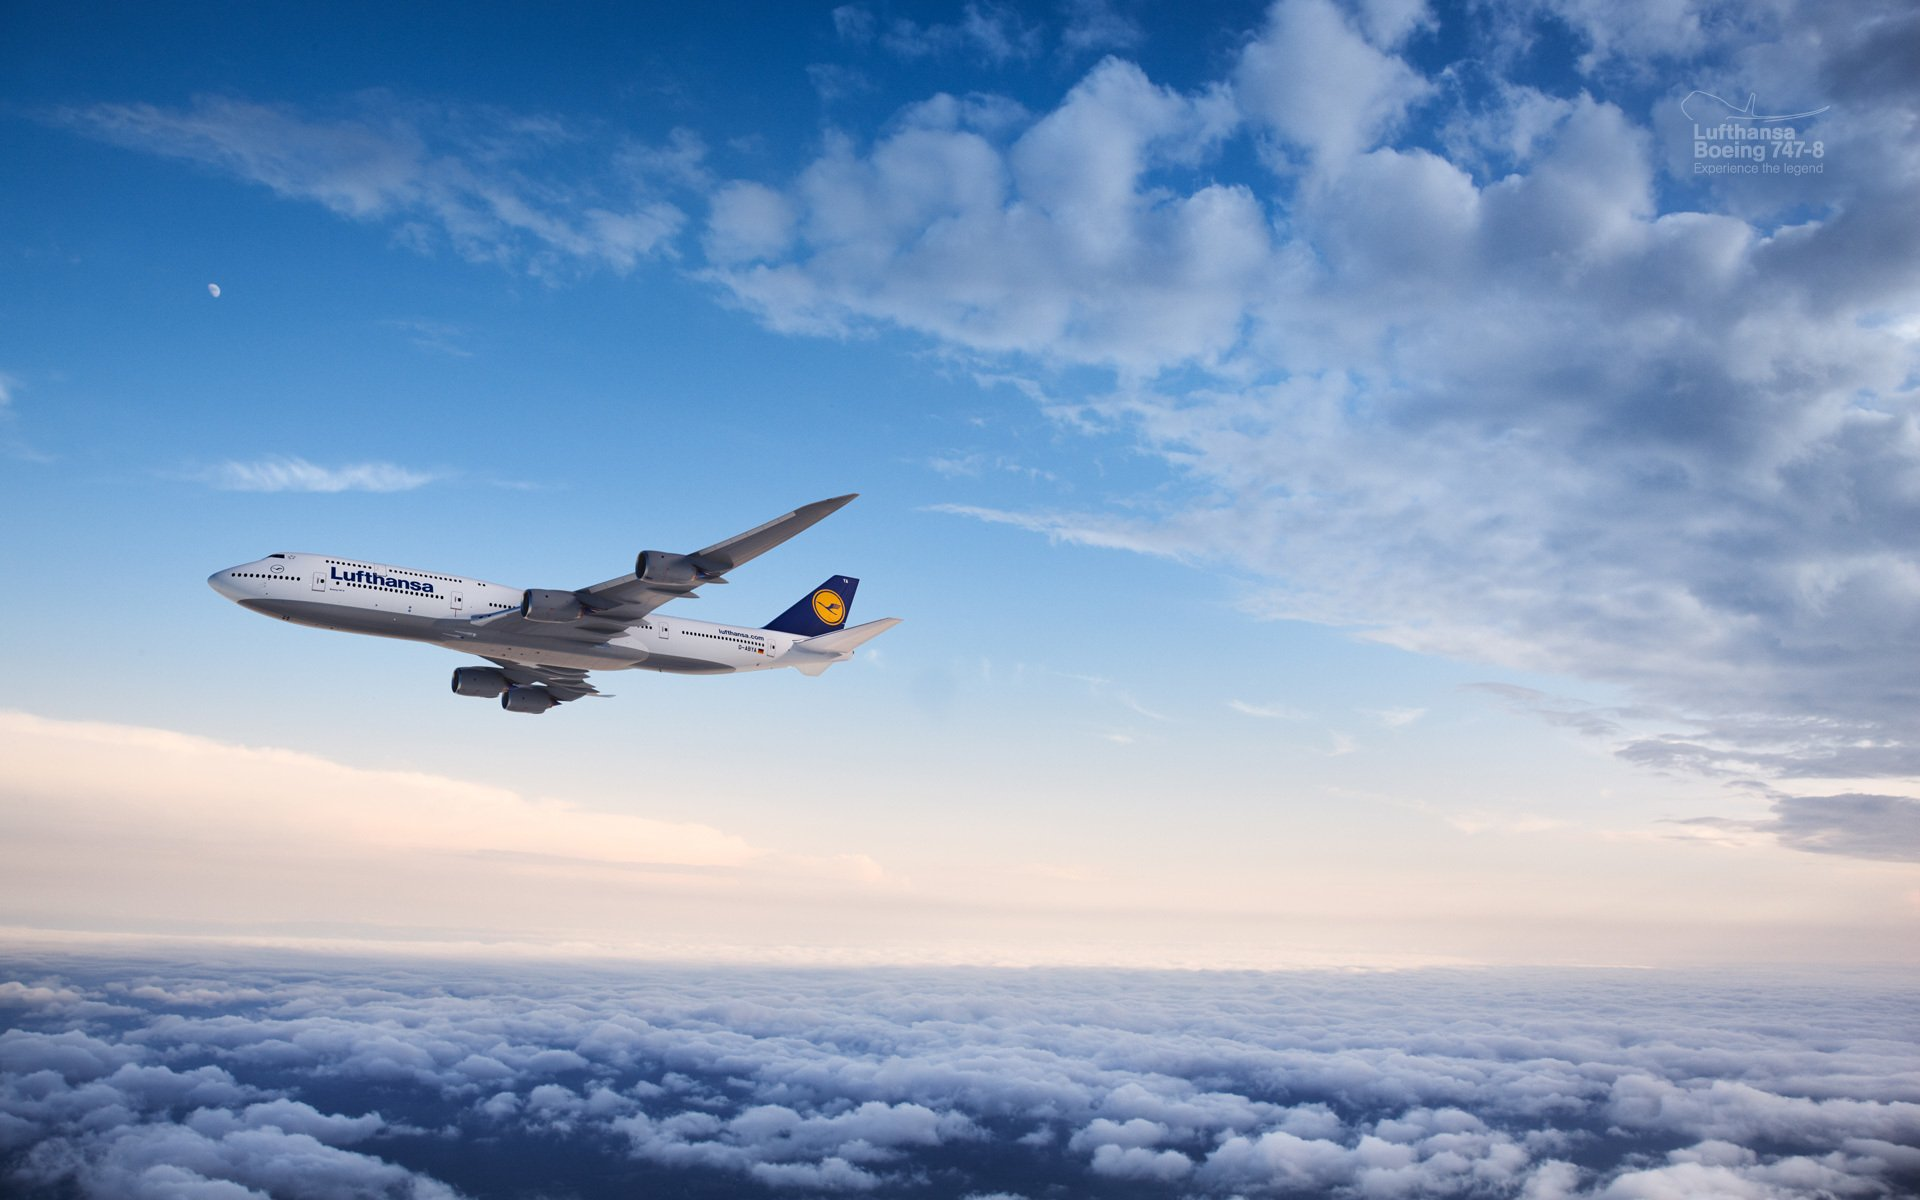plane: (205, 499, 898, 715)
